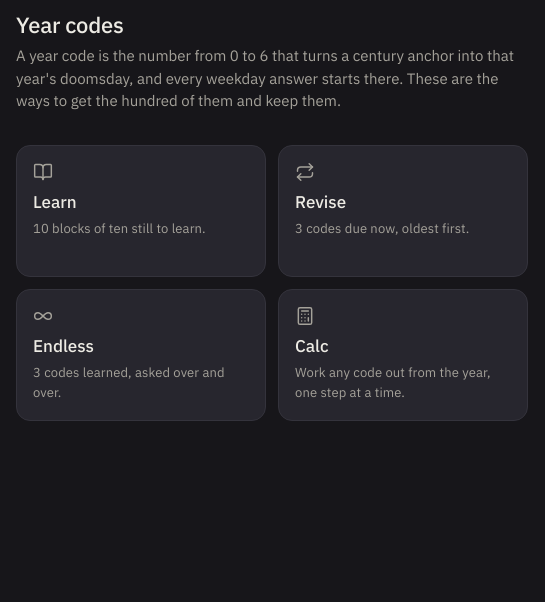
Test: Endless › is reached from the Year codes grid
This screenshot has width=545, height=602.
What coordinates should you click on to do the following:
click the link "Endless 3 codes learned, asked over and over."
I would click on:
 (141, 354)
Its box is [16,288,266,420].
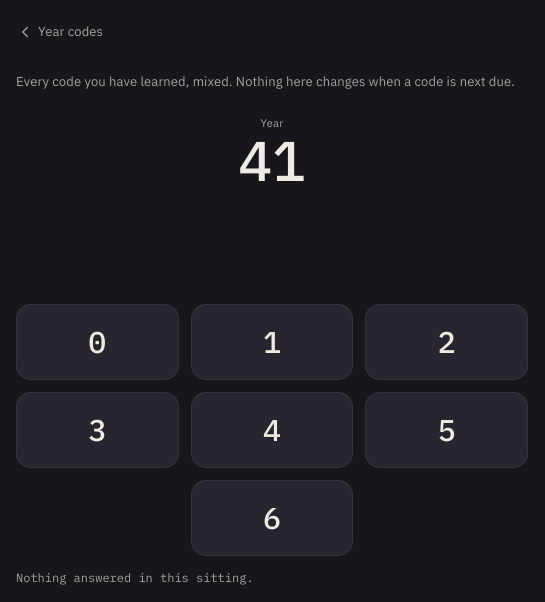
Expected: the element with test id "endless-prompt" is shown, [238,124,306,196]
